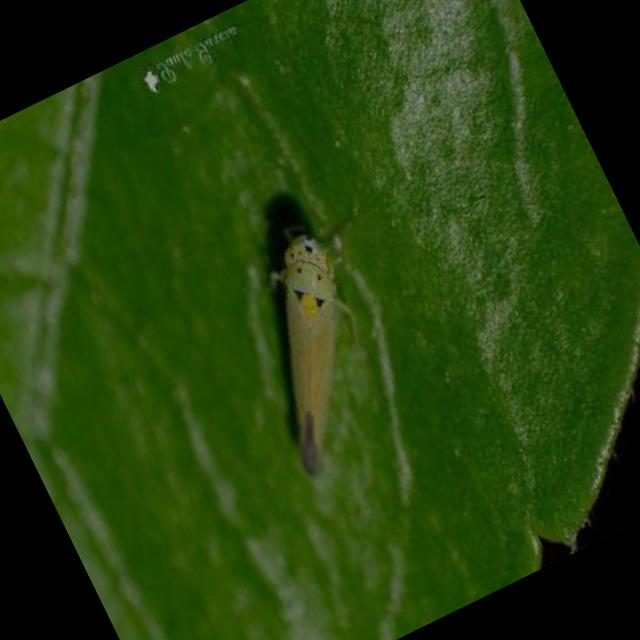green-leafhopper: (205, 210, 416, 476)
